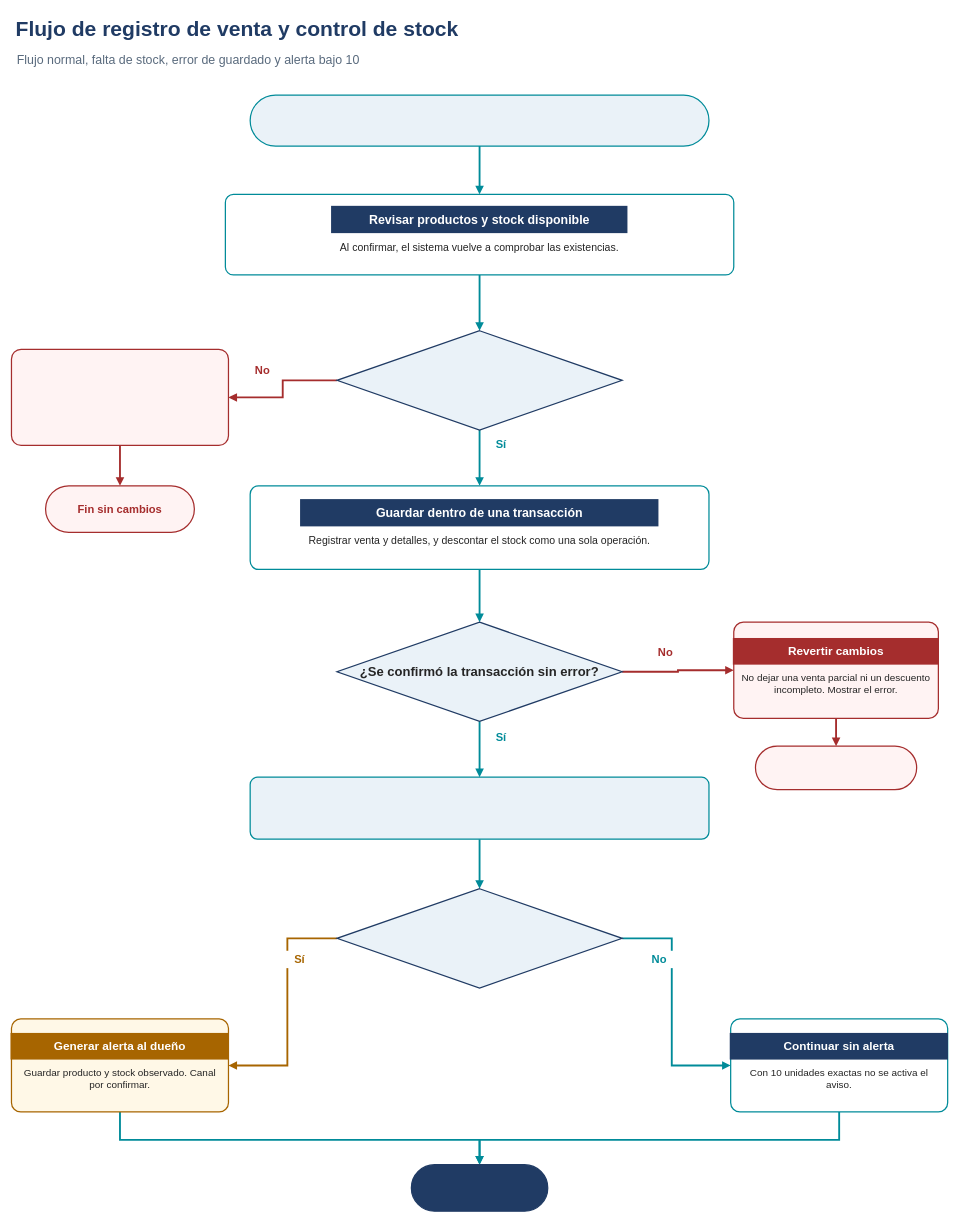
Image size: 959x1222. Some labels were removed from this diagram. The box of each missing label's shape, as (x1, y1, x2, y2) in pixels:
Fin: (410, 1164, 548, 1211)
Fin con error informado: (755, 745, 917, 790)
Inicio: seleccionar productos y cantidades: (249, 94, 709, 146)
Rechazar venta Informar el producto sin stock. No modificar el inventario.: (11, 348, 229, 446)
Venta confirmada y stock actualizado: (249, 776, 709, 839)
¿Algún producto quedó con stock menor que 10?: (336, 888, 622, 988)
¿Hay stock suficiente para todos los productos?: (336, 330, 622, 430)
